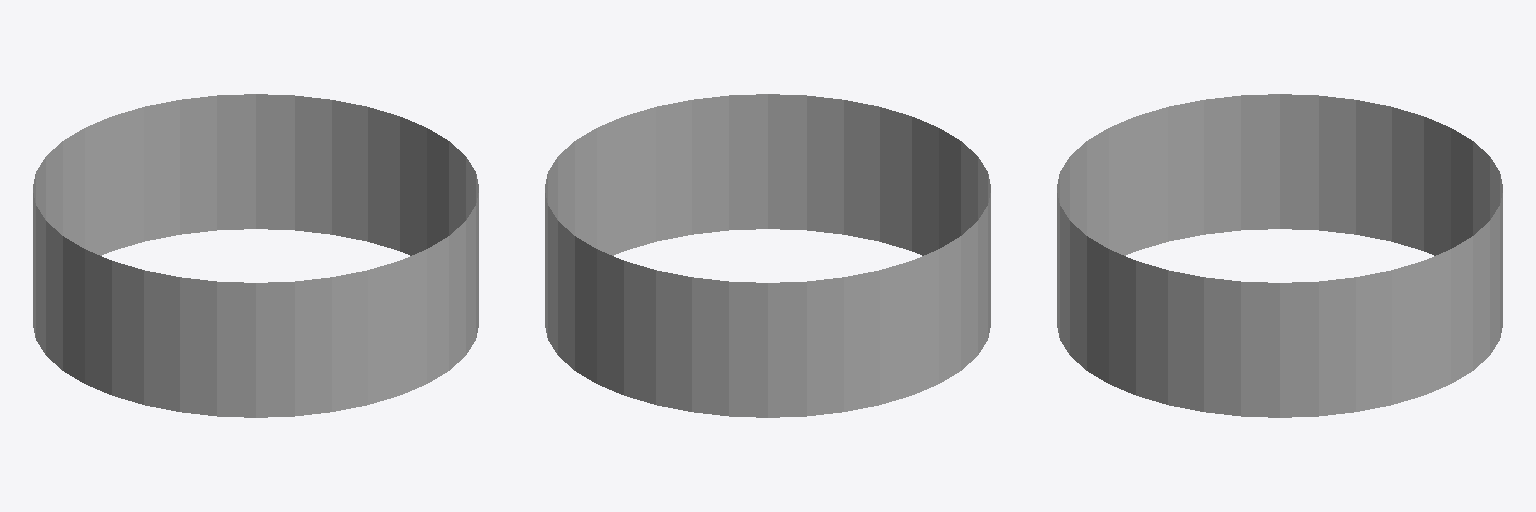
File: zylinder.obj
3 renders of one model, left to right at view 1: azimuth 30°, elevation 25°; view 2: azimuth 150°, elevation 25°; view 3: azimuth 270°, elevation 25°, orthographic.
Visible parts, largest first — view 1: zyl; view 2: zyl; view 3: zyl.
Boxes of the visible parts, <box> form: zyl: <box>33,94,478,417</box>; zyl: <box>545,94,990,417</box>; zyl: <box>1057,94,1502,417</box>.
Size of the model in its own units: 600 by 200 by 600.